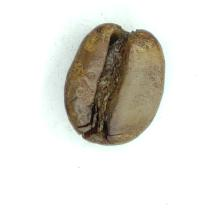NG: (87, 29, 138, 136)
